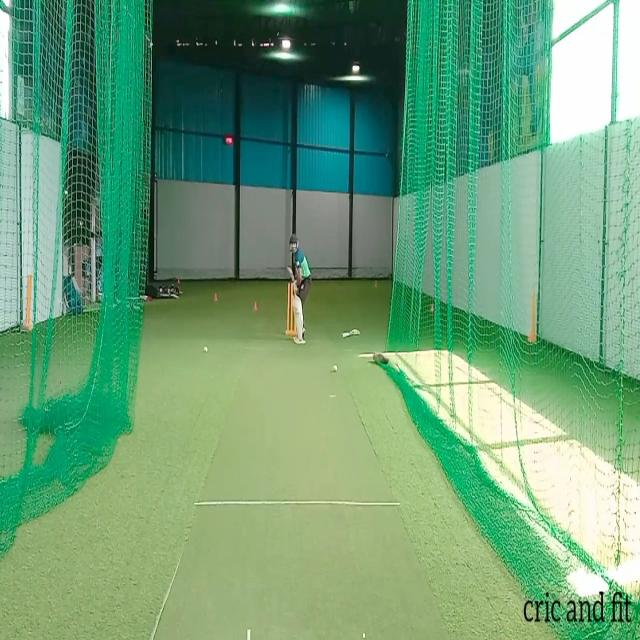batsman: (286, 234, 312, 346)
